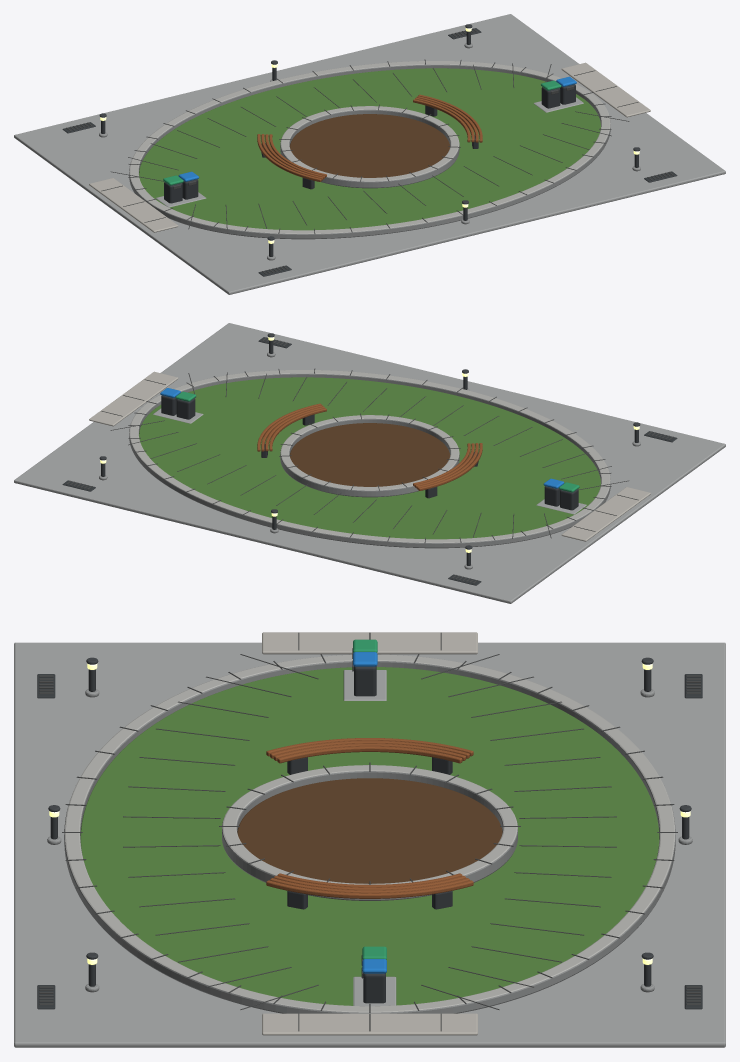
Rendered from CentralPark.fbx.
The picture shows the model from 3 angles, top to bottom: view 1: azimuth 30°, elevation 25°; view 2: azimuth 150°, elevation 25°; view 3: azimuth 270°, elevation 25°; orthographic projection. The views are drawn at different scales.
Parts seen in each view (by area): view 1: Park_Oval_Lawn_Base, Park_Concrete_Transition_Base_20x15m, Park_Outer_Stone_Curb, Park_Central_Tree_Mulch_Bed, Park_Central_Tree_Stone_Curb, Park_Path_West_Concrete_Connector, Park_Path_East_Concrete_Connector; view 2: Park_Oval_Lawn_Base, Park_Concrete_Transition_Base_20x15m, Park_Outer_Stone_Curb, Park_Central_Tree_Mulch_Bed, Park_Central_Tree_Stone_Curb, Park_Path_West_Concrete_Connector, Park_Path_East_Concrete_Connector; view 3: Park_Oval_Lawn_Base, Park_Concrete_Transition_Base_20x15m, Park_Outer_Stone_Curb, Park_Central_Tree_Mulch_Bed, Park_Central_Tree_Stone_Curb, Park_Path_East_Concrete_Connector, Park_Path_West_Concrete_Connector, Park_Bench_East_Wood_Slat_04, Park_Bench_West_Wood_Slat_01, Park_Waste_West_Concrete_Pad, Park_Bench_West_Wood_Slat_04, Park_Bench_West_Wood_Slat_03 (+7 smaller).
Part boxes in pixels (x1,y1,x2,y2): Park_Oval_Lawn_Base: (139, 68, 600, 230); Park_Concrete_Transition_Base_20x15m: (14, 14, 725, 294); Park_Outer_Stone_Curb: (129, 61, 610, 239); Park_Central_Tree_Mulch_Bed: (289, 114, 449, 177); Park_Central_Tree_Stone_Curb: (280, 106, 459, 188); Park_Path_West_Concrete_Connector: (89, 178, 178, 232); Park_Path_East_Concrete_Connector: (561, 62, 650, 117); Park_Oval_Lawn_Base: (139, 377, 600, 539); Park_Concrete_Transition_Base_20x15m: (14, 323, 725, 603); Park_Outer_Stone_Curb: (129, 370, 610, 548); Park_Central_Tree_Mulch_Bed: (290, 423, 450, 486); Park_Central_Tree_Stone_Curb: (280, 415, 459, 497); Park_Path_West_Concrete_Connector: (561, 487, 650, 541); Park_Path_East_Concrete_Connector: (89, 371, 178, 426); Park_Oval_Lawn_Base: (80, 667, 659, 1005); Park_Concrete_Transition_Base_20x15m: (14, 642, 725, 1047); Park_Outer_Stone_Curb: (64, 654, 675, 1013); Park_Central_Tree_Mulch_Bed: (237, 778, 502, 883); Park_Central_Tree_Stone_Curb: (222, 765, 517, 900); Park_Path_East_Concrete_Connector: (262, 1013, 477, 1035); Park_Path_West_Concrete_Connector: (262, 632, 477, 654); Park_Bench_East_Wood_Slat_04: (266, 880, 473, 898); Park_Bench_West_Wood_Slat_01: (277, 746, 462, 763); Park_Waste_West_Concrete_Pad: (343, 670, 386, 700); Park_Bench_West_Wood_Slat_04: (266, 738, 473, 756); Park_Bench_West_Wood_Slat_03: (270, 740, 469, 758).
Size of the model in its own units: 2000 by 101 by 1500.
